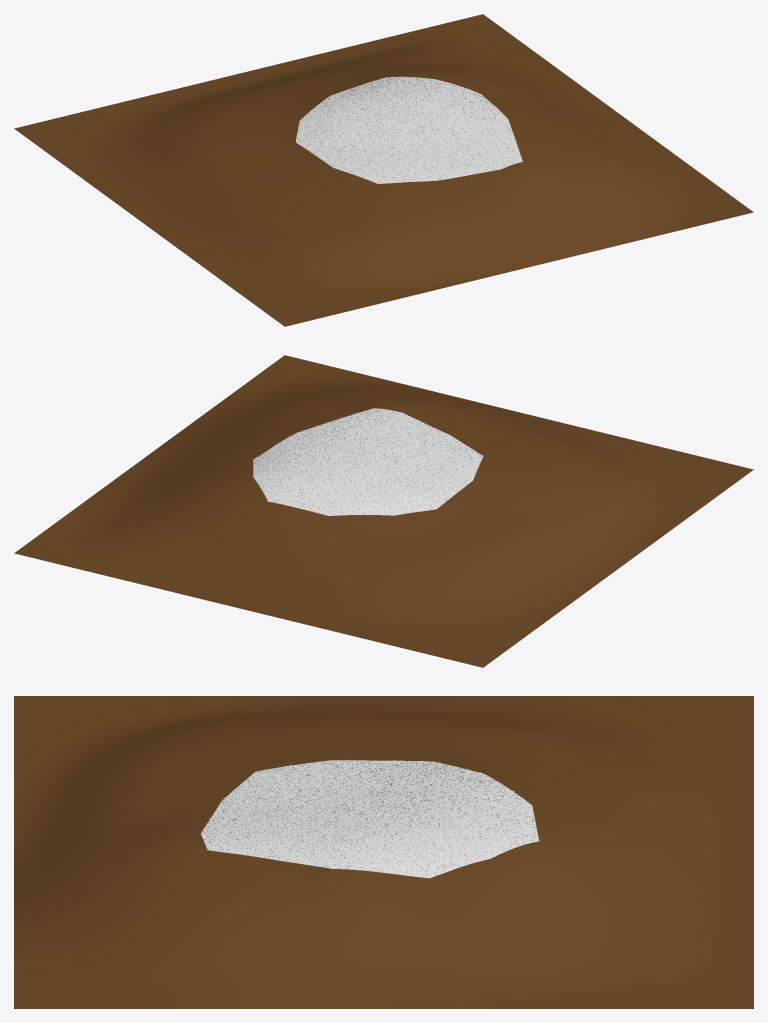
Rendered from demoIsland.fbx.
3 renders of one model, top to bottom at view 1: azimuth 30°, elevation 25°; view 2: azimuth 150°, elevation 25°; view 3: azimuth 270°, elevation 25°, orthographic. The views are drawn at different scales.
Parts seen in each view (by area): view 1: island, islandGrass; view 2: island, islandGrass; view 3: island, islandGrass.
Boxes of the visible parts, box(x1,y1,x2,y2) form: island: box(14, 14, 753, 326); islandGrass: box(296, 76, 522, 183); island: box(14, 355, 753, 667); islandGrass: box(253, 408, 483, 515); island: box(14, 696, 753, 1008); islandGrass: box(201, 759, 537, 877).
Bounding box in the file's own units: 60.11 × 5.58 × 60.11.
